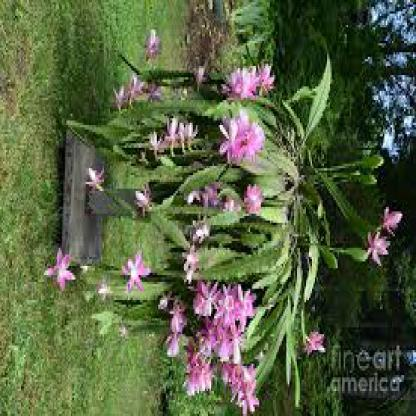Aglonema: (175, 38, 345, 349)
